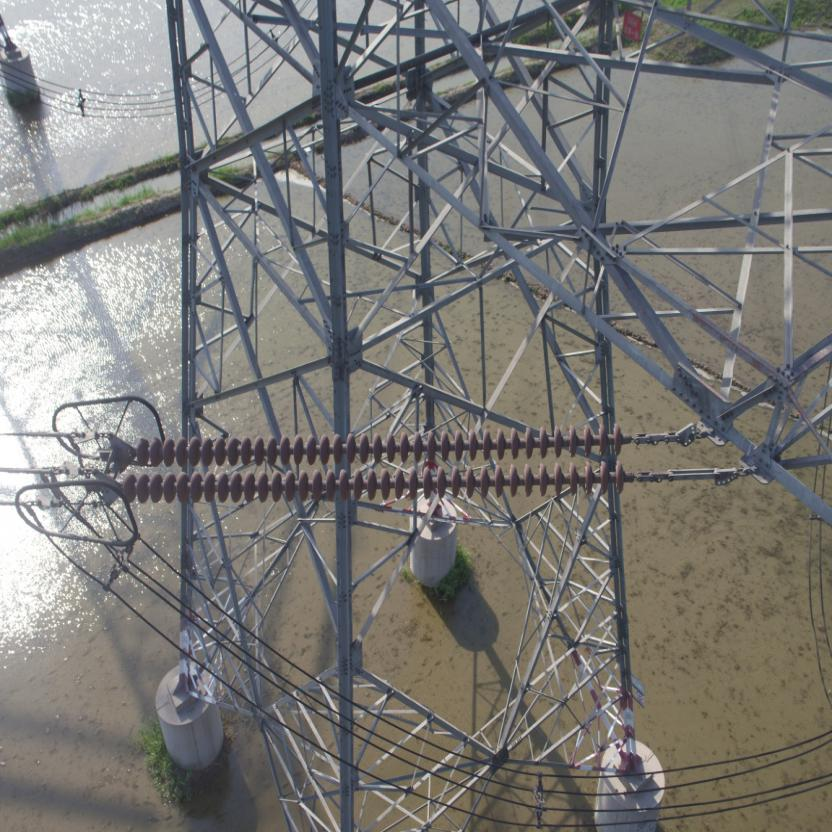insulator: (104, 422, 665, 504)
